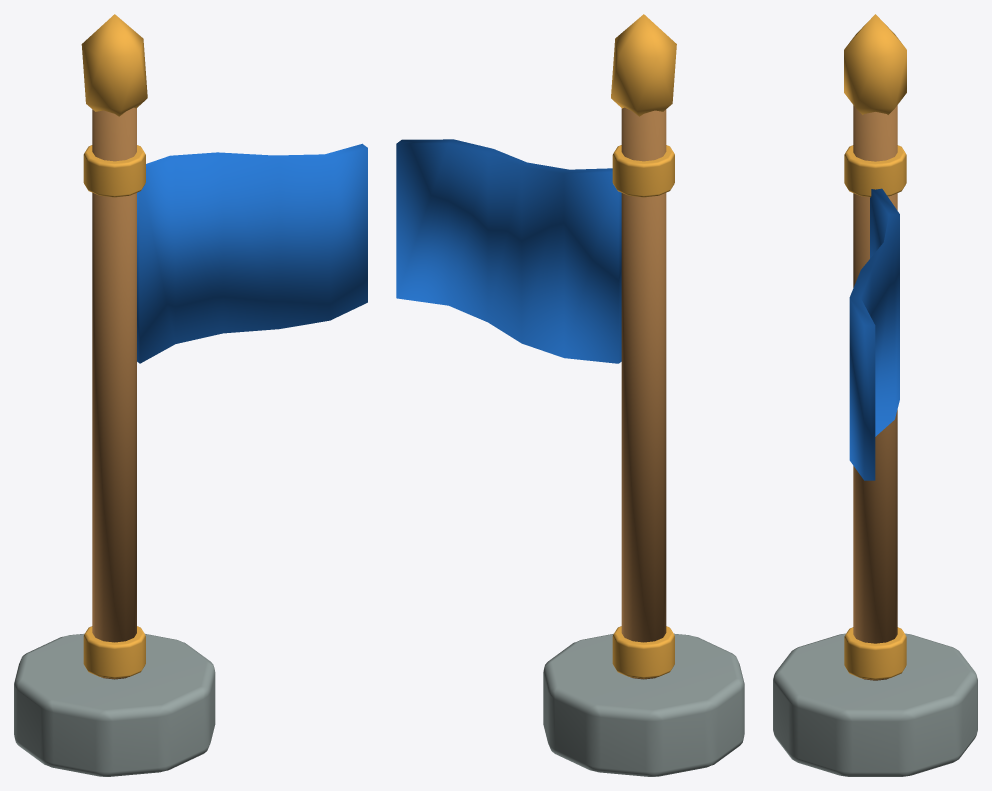
The model's file is banner.glb.
3 views of the same model, side by side, from view 1: azimuth 30°, elevation 25°; view 2: azimuth 150°, elevation 25°; view 3: azimuth 270°, elevation 25° (orthographic).
Parts seen in each view (by area): view 1: banner_TOY_BODY_VERTEX_COLOR, banner_TEAM_BLUE, banner_ARMOR_METAL_VERTEX_COLOR; view 2: banner_TOY_BODY_VERTEX_COLOR, banner_TEAM_BLUE, banner_ARMOR_METAL_VERTEX_COLOR; view 3: banner_TOY_BODY_VERTEX_COLOR, banner_TEAM_BLUE, banner_ARMOR_METAL_VERTEX_COLOR.
Boxes of the visible parts, bbox=[...] form: banner_TOY_BODY_VERTEX_COLOR: bbox=[14, 107, 215, 776]; banner_TEAM_BLUE: bbox=[137, 143, 367, 363]; banner_ARMOR_METAL_VERTEX_COLOR: bbox=[81, 14, 147, 678]; banner_TOY_BODY_VERTEX_COLOR: bbox=[543, 107, 744, 776]; banner_TEAM_BLUE: bbox=[396, 139, 621, 363]; banner_ARMOR_METAL_VERTEX_COLOR: bbox=[611, 14, 676, 678]; banner_TOY_BODY_VERTEX_COLOR: bbox=[773, 105, 977, 776]; banner_TEAM_BLUE: bbox=[849, 188, 899, 480]; banner_ARMOR_METAL_VERTEX_COLOR: bbox=[844, 14, 906, 679].
Bounding box in the file's own units: 1.04 × 2.15 × 0.5509.
